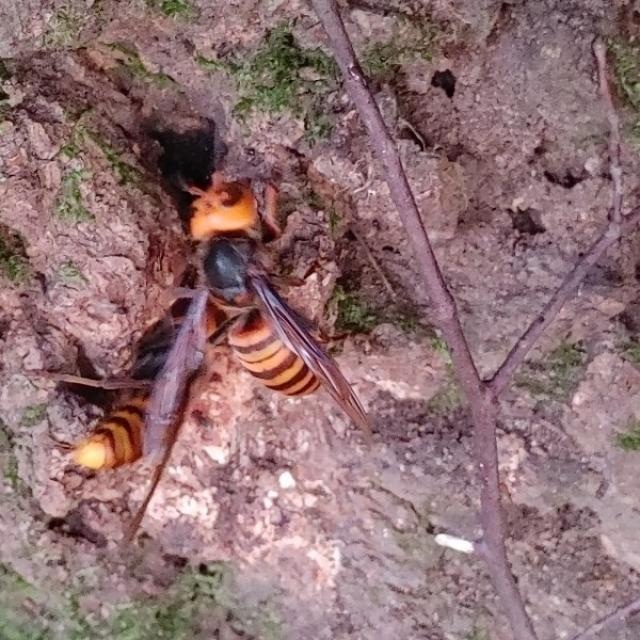Wasp: (183, 164, 375, 443)
